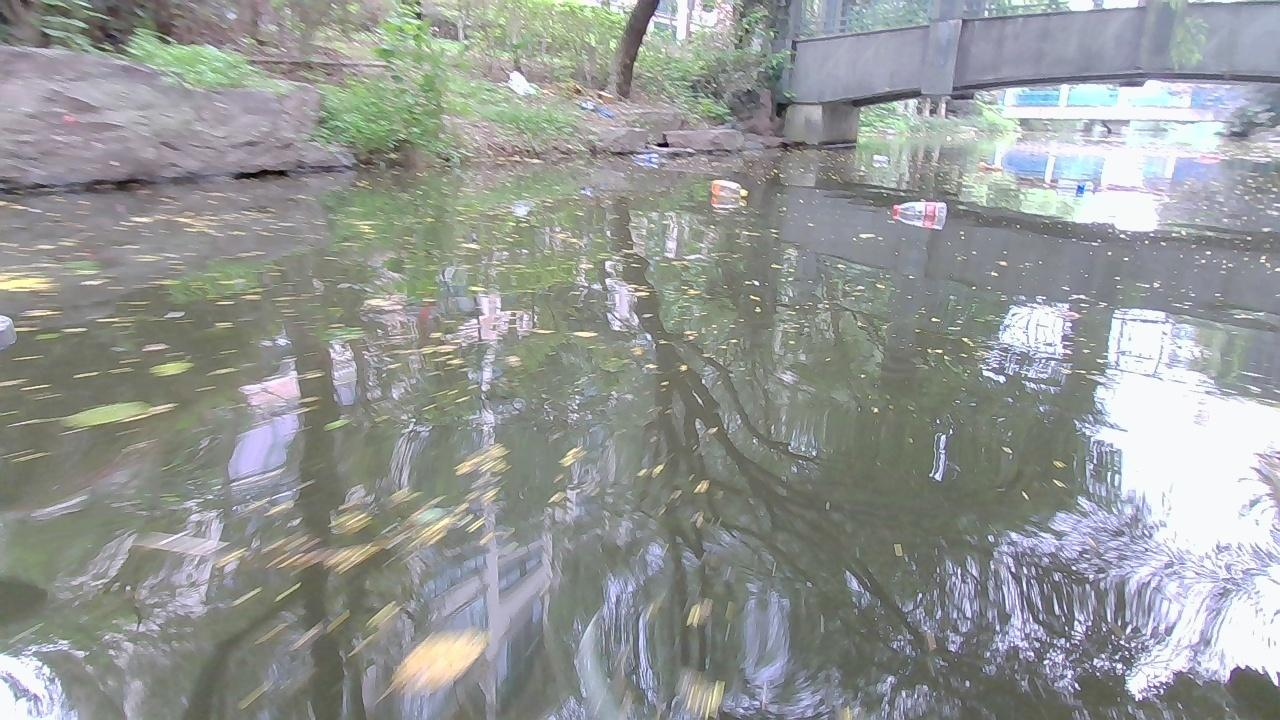bottle: (890, 200, 944, 220), (706, 175, 750, 199), (1053, 179, 1100, 191), (627, 150, 661, 165), (974, 160, 1006, 172), (1197, 152, 1221, 161), (872, 153, 891, 163)
